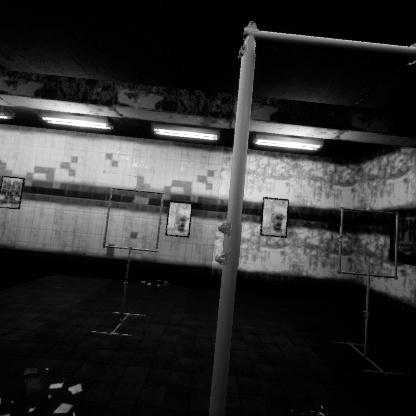gate: (339, 136, 405, 209), (102, 162, 169, 229)
